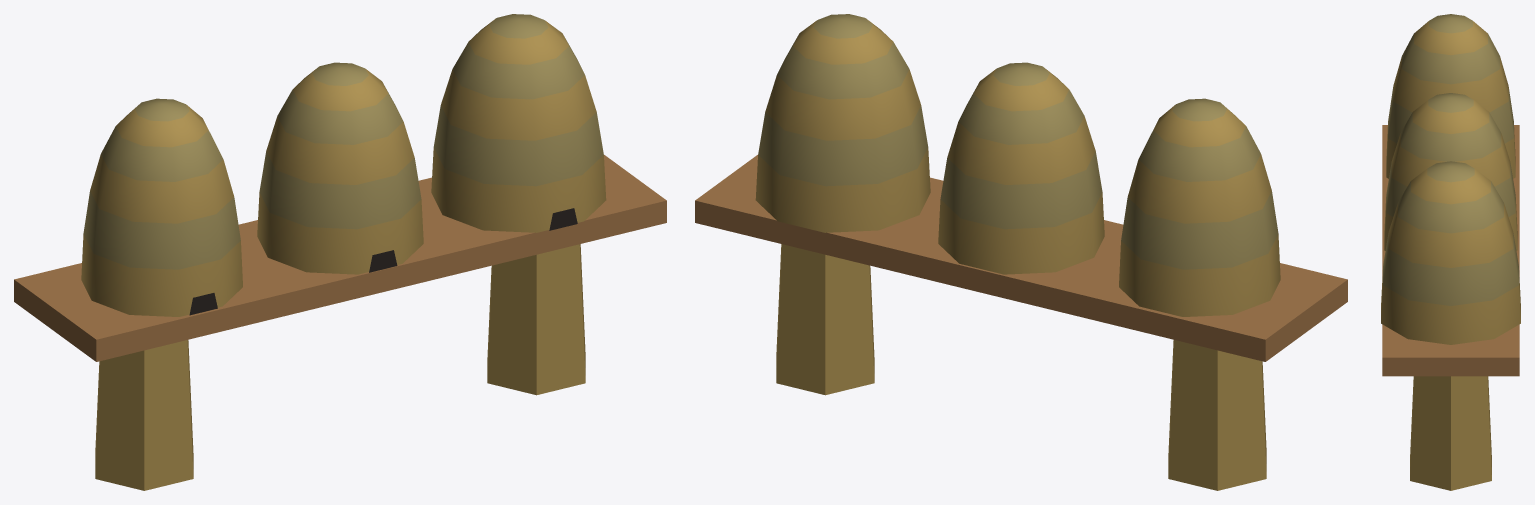
Rendered from Skeps.fbx.
The picture shows the model from 3 angles, left to right: view 1: azimuth 30°, elevation 25°; view 2: azimuth 150°, elevation 25°; view 3: azimuth 270°, elevation 25°; orthographic projection. The views are drawn at different scales.
Parts seen in each view (by area): view 1: Skeps; view 2: Skeps; view 3: Skeps.
Part boxes in pixels (x1=…): Skeps: x1=14, y1=14, x2=666, y2=490; Skeps: x1=695, y1=14, x2=1347, y2=490; Skeps: x1=1381, y1=14, x2=1520, y2=490.
Size of the model in its own units: 1.6 by 0.9611 by 0.4209.
